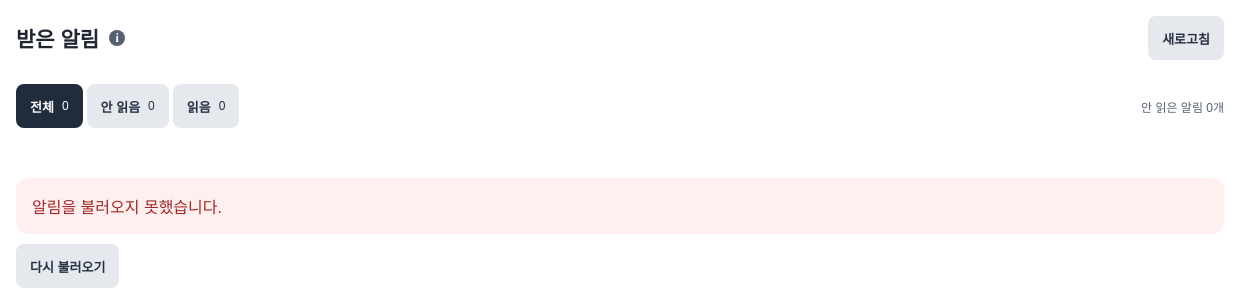
it: personal workspace notices › retries a loading failure and displays a useful empty state
Check: the message reads "알림을 불러오지 못했습니다.", box [32, 199, 222, 216]
Click the button "다시 불러오기": (68, 266) [16, 244, 119, 288]
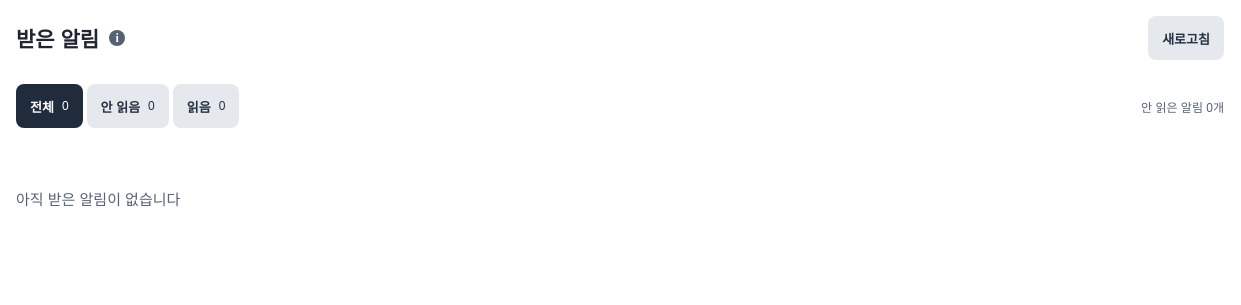
Check: the text "아직 받은 알림이 없습니다" is shown, box [16, 188, 180, 209]
